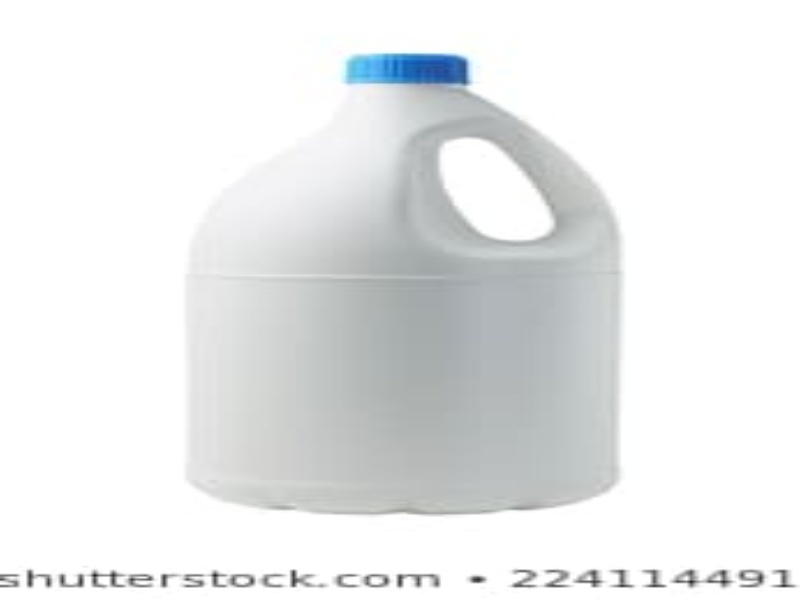detergent-bottle: (174, 49, 633, 509)
